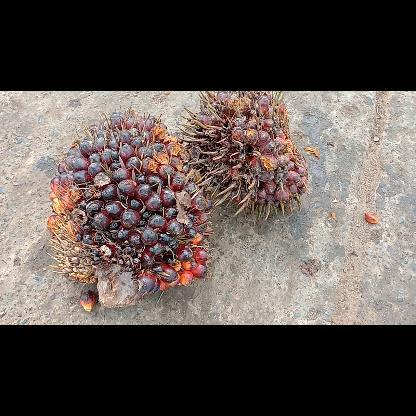Kurang masak: (46, 106, 214, 306)
TBS masak: (178, 91, 310, 219)
